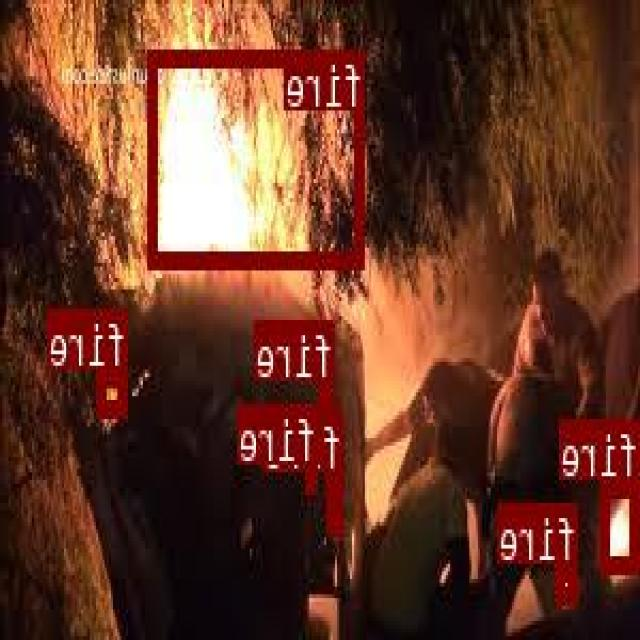fire: (150, 49, 366, 265), (602, 478, 640, 569), (99, 368, 129, 413), (330, 470, 344, 531), (559, 564, 580, 600), (321, 377, 336, 413), (307, 464, 320, 488)
